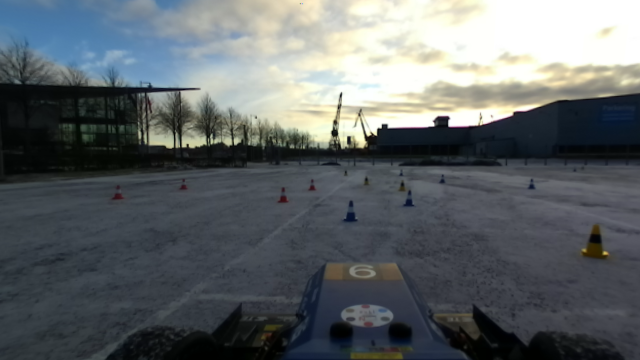blue: (341, 199, 358, 224), (402, 190, 414, 207), (526, 176, 537, 191), (438, 173, 447, 186)
orange: (276, 186, 297, 208), (113, 183, 123, 199), (306, 177, 316, 192), (178, 178, 188, 189)
yellow: (581, 223, 609, 261), (359, 175, 371, 189)
